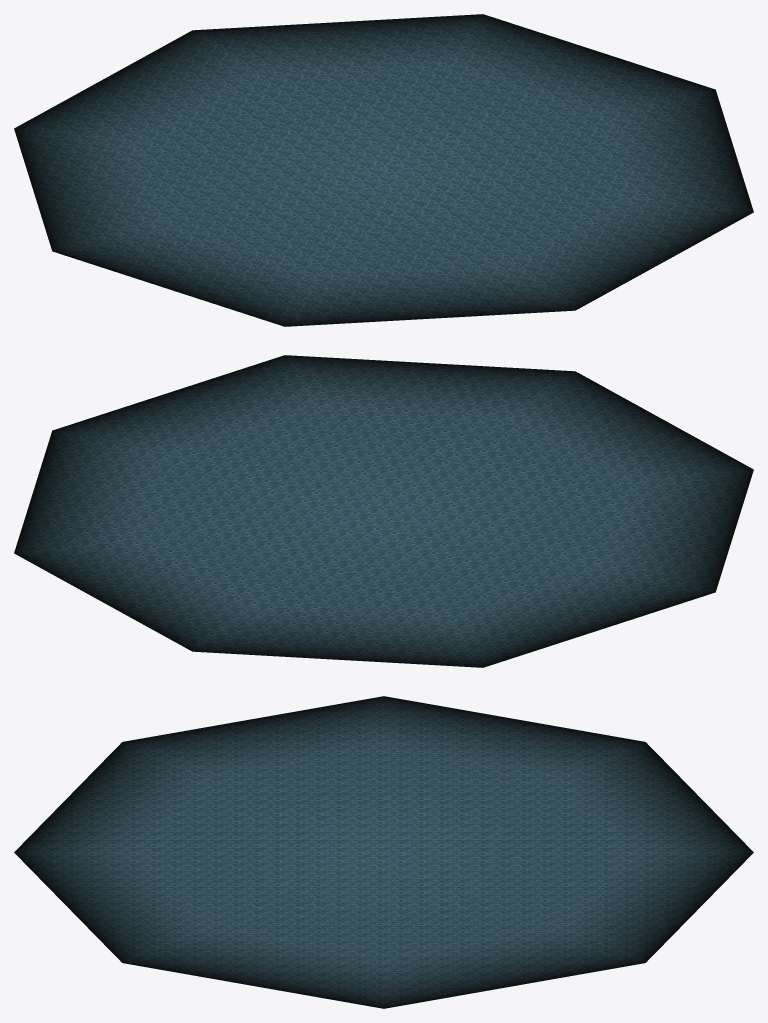
The model's file is old_hyudoro_64-hyudoro_waterC.glb.
3 renders of one model, top to bottom at view 1: azimuth 30°, elevation 25°; view 2: azimuth 150°, elevation 25°; view 3: azimuth 270°, elevation 25°, orthographic. The views are drawn at different scales.
Parts seen in each view (by area): view 1: hyudoro_waterC; view 2: hyudoro_waterC; view 3: hyudoro_waterC.
Part boxes in pixels (box(x1,y1,x2,y2)): hyudoro_waterC: box(14, 14, 753, 326); hyudoro_waterC: box(14, 355, 753, 667); hyudoro_waterC: box(14, 696, 753, 1008).
Size of the model in its own units: 581 by 0 by 581.
1 material, 1 textured.
